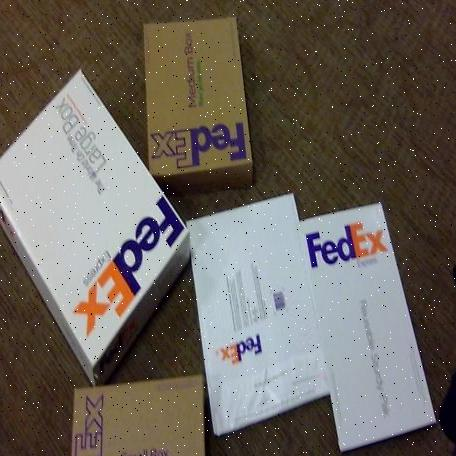Amazon: (2, 77, 189, 366), (191, 213, 332, 419), (313, 210, 433, 426), (144, 15, 257, 189), (63, 388, 216, 456)
